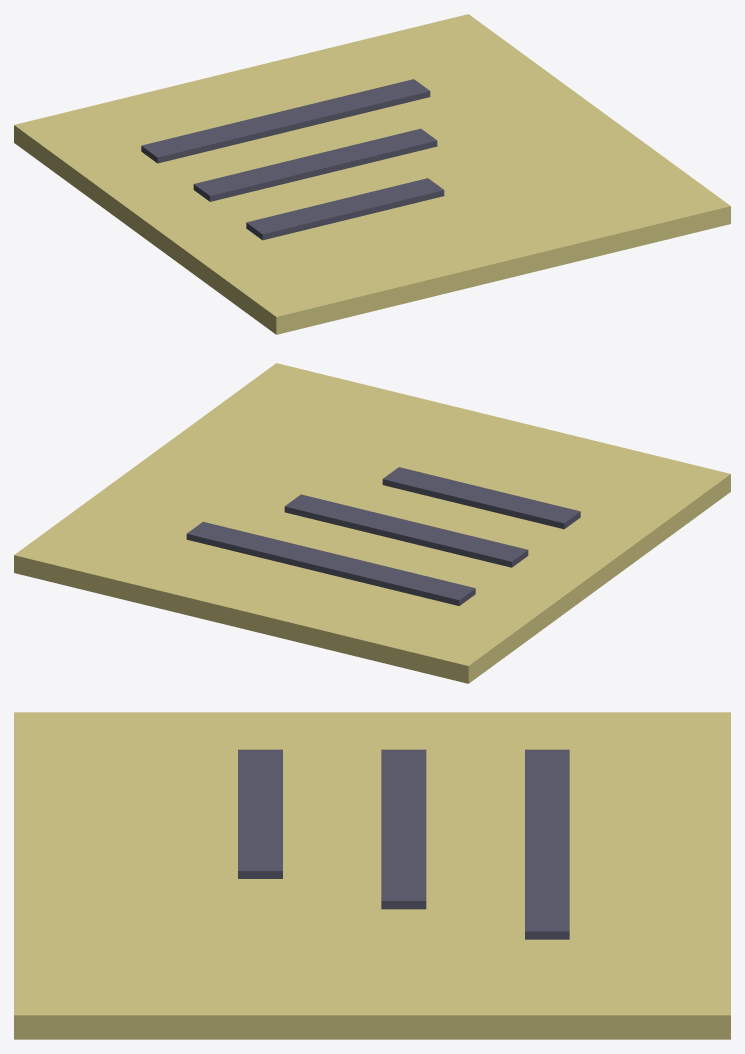
File: code_note.gltf
3 renders of one model, top to bottom at view 1: azimuth 30°, elevation 25°; view 2: azimuth 150°, elevation 25°; view 3: azimuth 270°, elevation 25°, orthographic. The views are drawn at different scales.
Visible parts, largest first — view 1: code_note; view 2: code_note; view 3: code_note.
Boxes of the visible parts, left/top/right/bottom form: code_note: left=14, top=14, right=730, bottom=334; code_note: left=14, top=363, right=730, bottom=683; code_note: left=14, top=712, right=730, bottom=1039.
Size of the model in its own units: 0.08 by 0.004 by 0.08.
